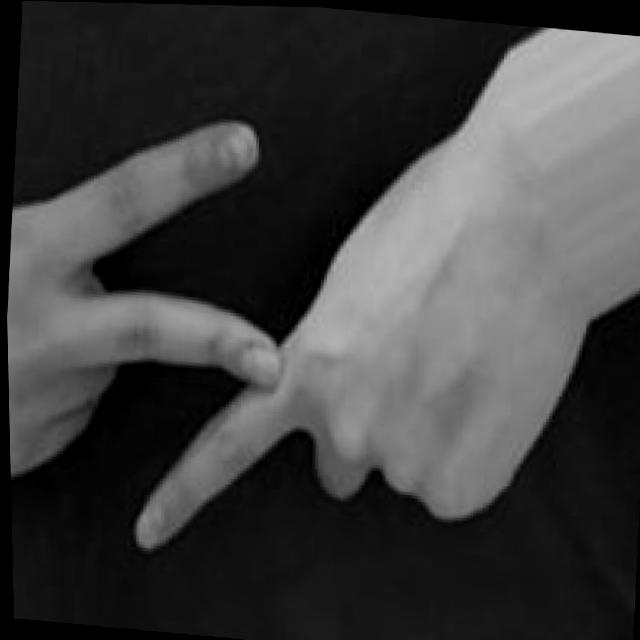Z: (2, 93, 610, 596)
